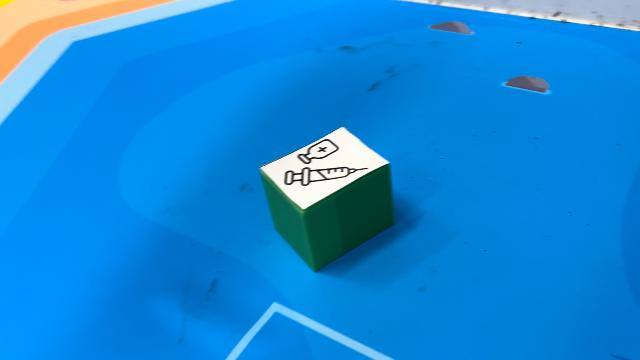syringe: (262, 128, 394, 274)
